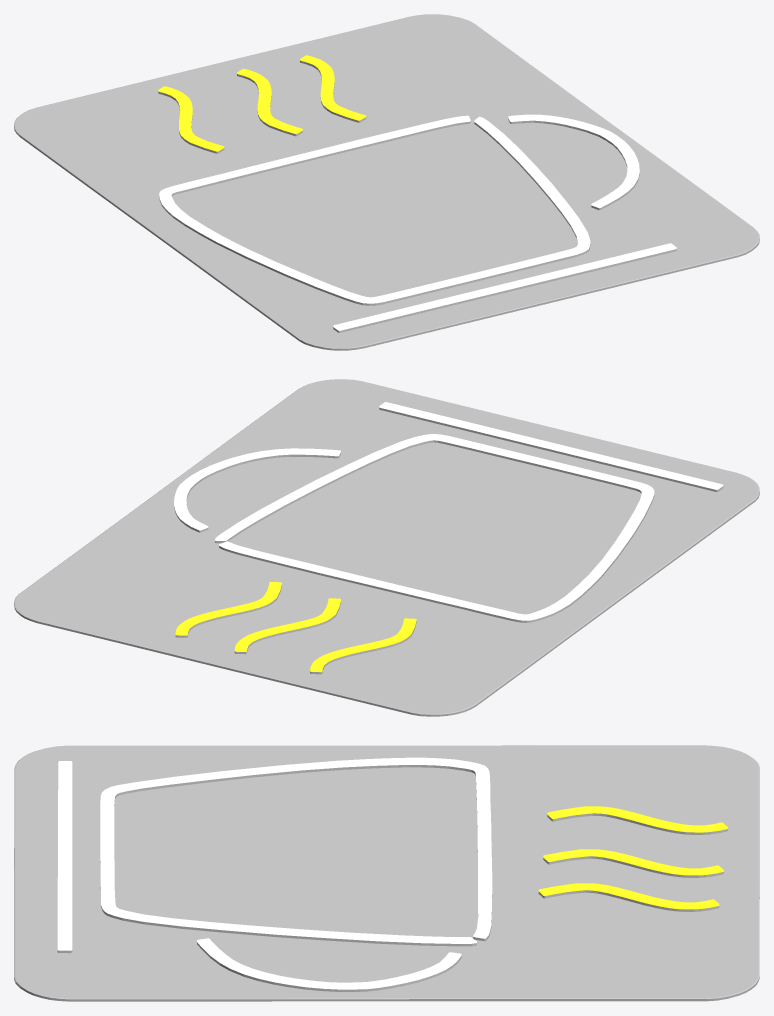
Rendered from coffee_mug_AR.glb.
3 views of the same model, one above another, from view 1: azimuth 30°, elevation 25°; view 2: azimuth 150°, elevation 25°; view 3: azimuth 270°, elevation 25° (orthographic). The views are drawn at different scales.
Visible parts, largest first — view 1: Plane, Plane.001; view 2: Plane, Plane.001; view 3: Plane, Plane.001.
Boxes of the visible parts, x1,y1,x2,y2 form: Plane: (14,14,759,350); Plane.001: (158,55,676,332); Plane: (14,379,759,716); Plane.001: (174,402,723,674); Plane: (14,745,759,1001); Plane.001: (57,757,727,991).
Bounding box in the file's own units: 1.16 × 0.0187 × 1.44.
